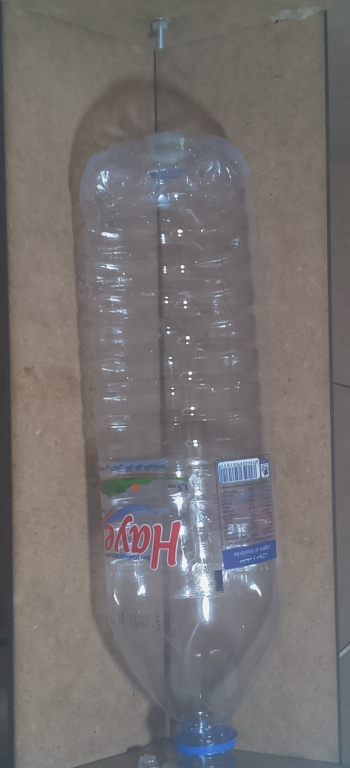Bouteille_1.5L: (70, 121, 283, 766)
